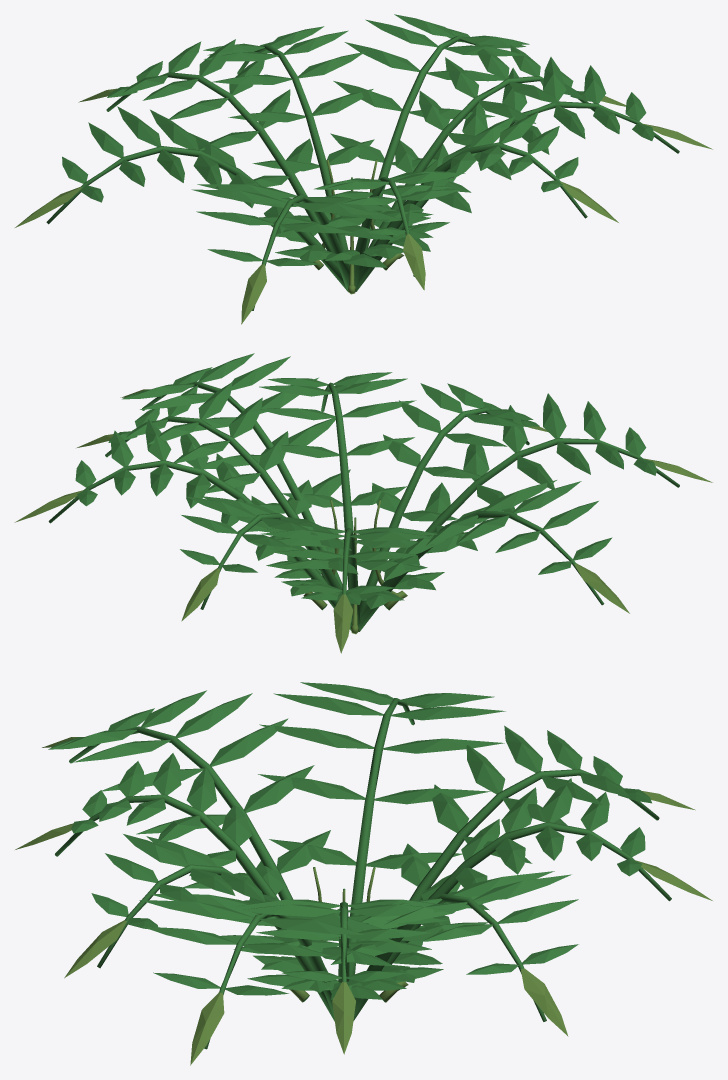
File: Plant_Forest_FernCluster_001.glb
3 renders of one model, top to bottom at view 1: azimuth 30°, elevation 25°; view 2: azimuth 150°, elevation 25°; view 3: azimuth 270°, elevation 25°, orthographic. The views are drawn at different scales.
Visible parts, largest first — view 1: FR_FernCluster_Body; view 2: FR_FernCluster_Body; view 3: FR_FernCluster_Body.
Part boxes in pixels (x1=…): FR_FernCluster_Body: x1=15, y1=14, x2=712, y2=324; FR_FernCluster_Body: x1=14, y1=353, x2=712, y2=653; FR_FernCluster_Body: x1=15, y1=682, x2=712, y2=1065.
Size of the model in its own units: 1.95 by 0.5566 by 1.6.
